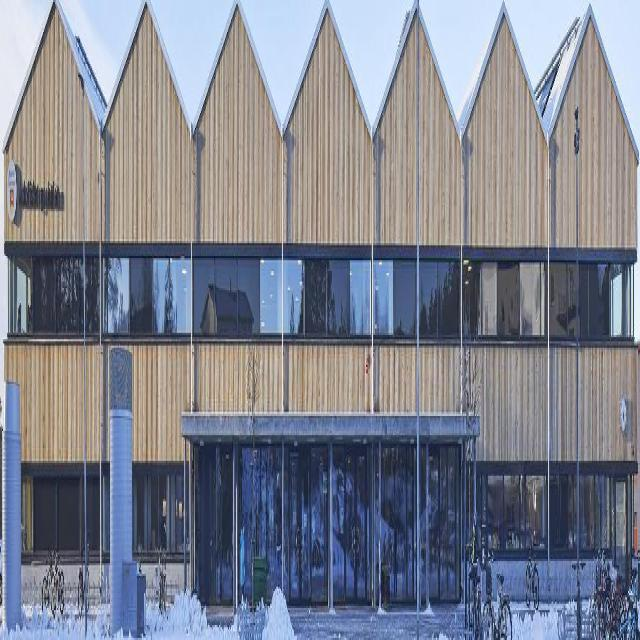door: (200, 450, 460, 619)
window: (13, 262, 631, 347), (480, 460, 633, 551), (20, 469, 109, 567), (132, 468, 189, 557)
